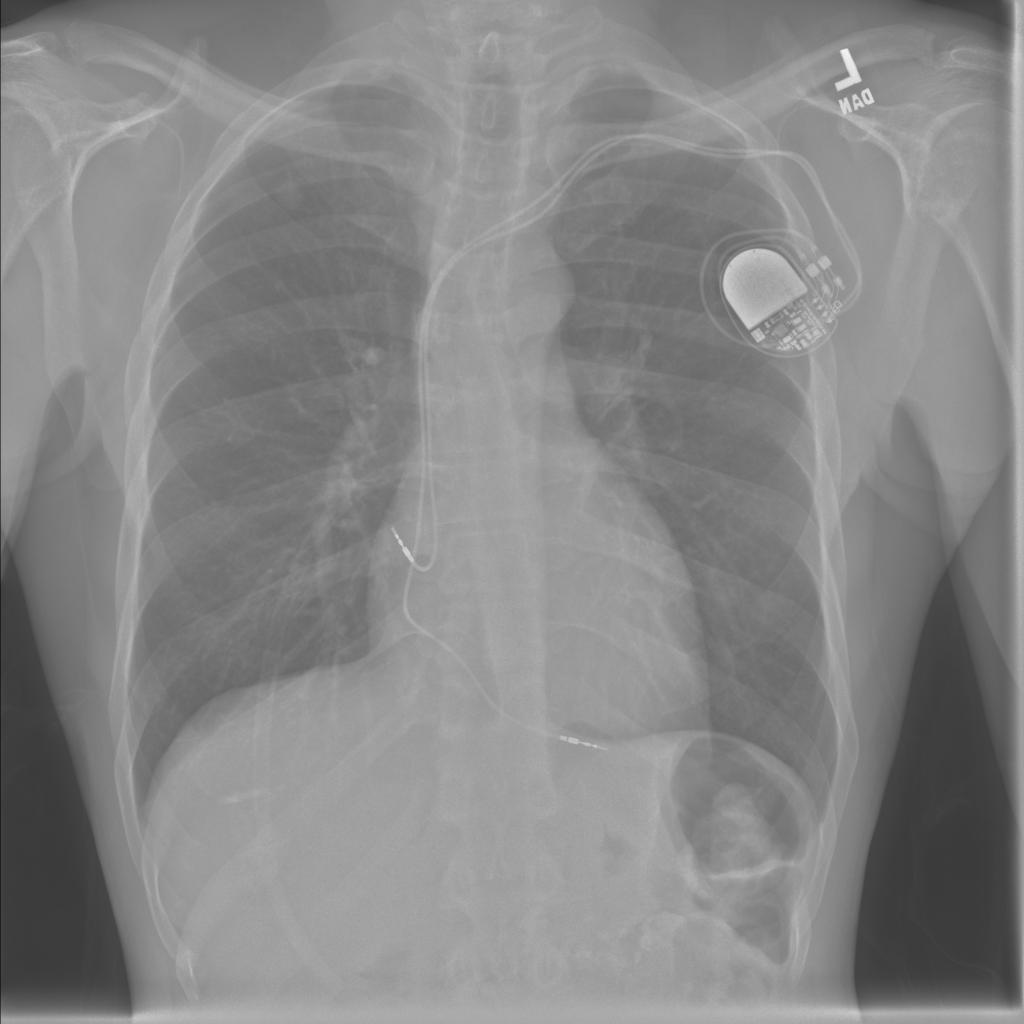Nodule: (142, 95, 156, 108)
